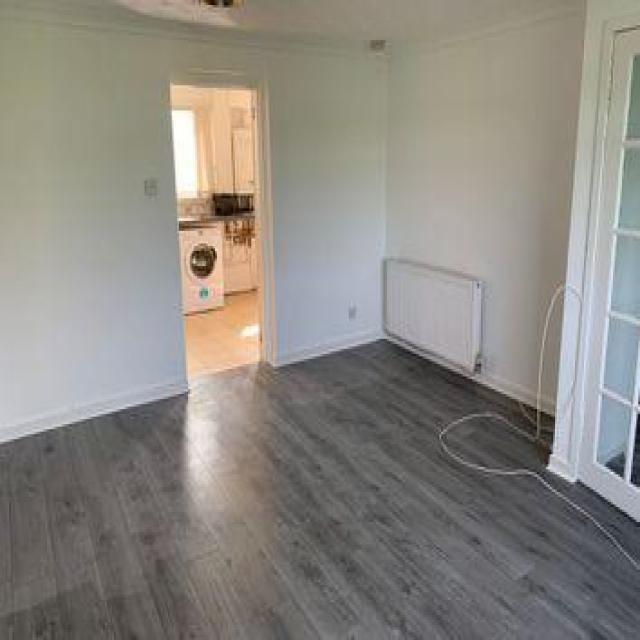Wall: (0, 2, 585, 440), (0, 340, 640, 639), (120, 0, 560, 43), (184, 290, 260, 383), (540, 283, 561, 421)
